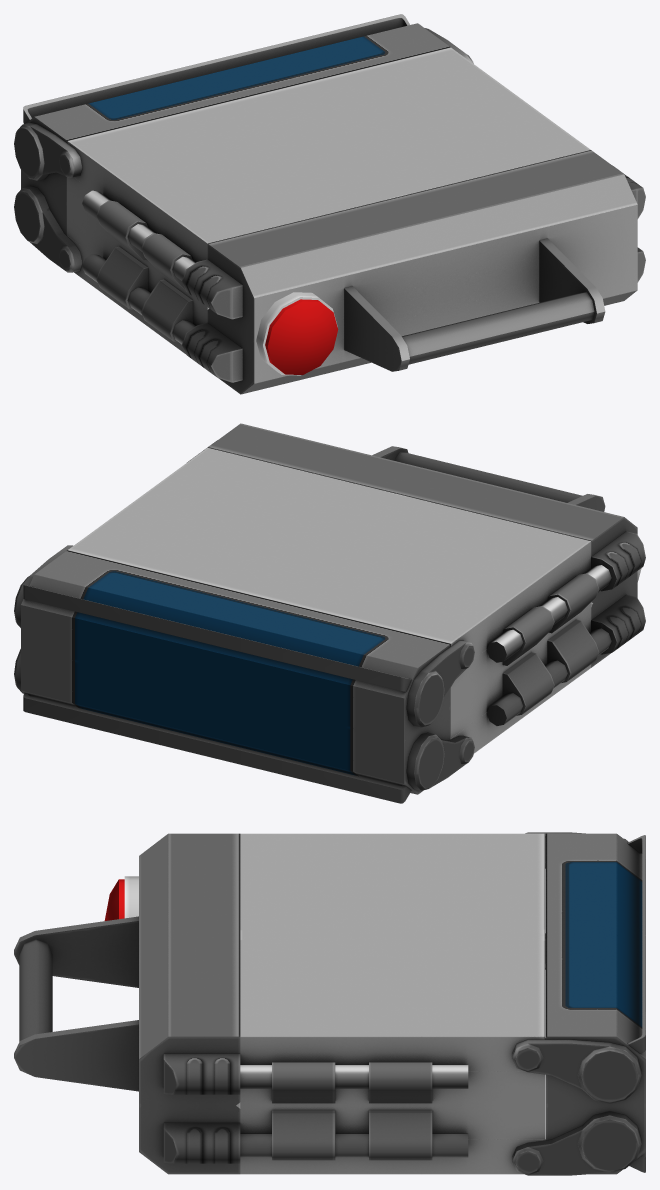
Rendered from solar_panel.obj.
The picture shows the model from 3 angles, top to bottom: view 1: azimuth 30°, elevation 25°; view 2: azimuth 150°, elevation 25°; view 3: azimuth 270°, elevation 25°; orthographic projection. The views are drawn at different scales.
Parts seen in each view (by area): view 1: Panel_Large_01, Base, Panel_Large_02, Panel_Small_04, Button, Panel_Small_03, ButtonHousing; view 2: Panel_Large_01, Base, Panel_Small_04, Panel_Large_02, Panel_Small_03; view 3: Panel_Large_01, Base, Panel_Large_02, Panel_Small_02, Panel_Small_01, Button, ButtonHousing.
Part boxes in pixels (x1,y1,x2,y2): Panel_Large_01: (67,47,645,360); Base: (14,14,473,272); Panel_Large_02: (67,236,645,394); Panel_Small_04: (67,204,208,342); Button: (265,299,338,374); Panel_Small_03: (67,177,192,290); ButtonHousing: (256,292,337,375); Panel_Large_01: (67,423,645,662); Base: (14,545,474,803); Panel_Small_04: (450,605,599,738); Panel_Large_02: (450,507,645,753); Panel_Small_03: (450,573,599,707); Panel_Large_01: (14,833,545,1105); Base: (512,832,645,1175); Panel_Large_02: (14,954,545,1174); Panel_Small_02: (240,1105,545,1160); Panel_Small_01: (240,1062,545,1105); Button: (104,879,124,920); ButtonHousing: (124,876,138,918).
Bounding box in the file's own units: 439 × 122 × 508.
